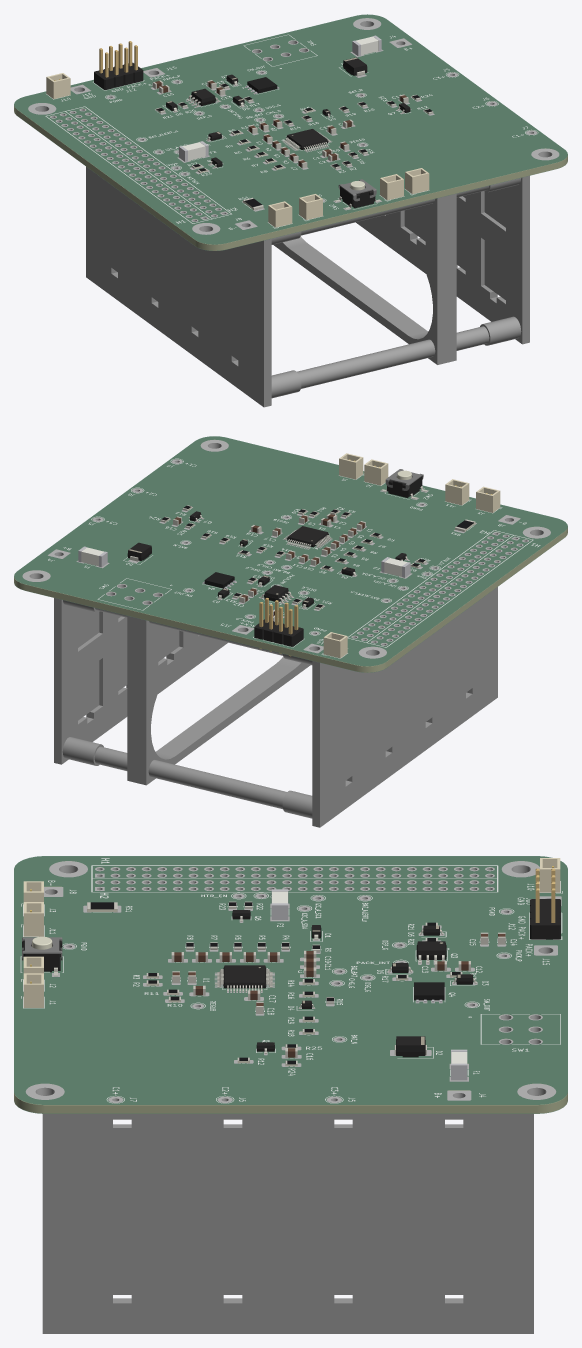
The model's file is board.glb.
3 views of the same model, one above another, from view 1: azimuth 30°, elevation 25°; view 2: azimuth 150°, elevation 25°; view 3: azimuth 270°, elevation 25° (orthographic). The views are drawn at different scales.
Visible parts, largest first — view 1: =>[0:1:1:38], =>[0:1:1:40], bottom plate battery harness v3:1 (×2), middle plate v6:1, =>[0:1:1:35], =>[0:1:1:36], =>[0:1:1:15] (×5), =>[0:1:1:21], =>[0:1:1:23], =>[0:1:1:25]; view 2: =>[0:1:1:38], =>[0:1:1:40], bottom plate battery harness v3:1 (×2), middle plate v6:1, =>[0:1:1:35], =>[0:1:1:36], =>[0:1:1:15] (×5), =>[0:1:1:21], =>[0:1:1:23], =>[0:1:1:25]; view 3: =>[0:1:1:38], =>[0:1:1:40], bottom plate battery harness v3:1, =>[0:1:1:35], =>[0:1:1:36], =>[0:1:1:15] (×3), =>[0:1:1:21], =>[0:1:1:25], =>[0:1:1:23], =>[0:1:1:19], =>[0:1:1:9], =>[0:1:1:34].
Boxes of the visible parts, box(x1,y1,x2,y2) form: =>[0:1:1:38]: box(14, 14, 567, 244); =>[0:1:1:40]: box(14, 15, 567, 250); bottom plate battery harness v3:1 (×2): box(86, 166, 529, 407); middle plate v6:1: box(273, 186, 489, 388); =>[0:1:1:35]: box(28, 18, 559, 234); =>[0:1:1:36]: box(45, 34, 538, 229); =>[0:1:1:15] (×5): box(46, 73, 429, 227); =>[0:1:1:21]: box(94, 41, 143, 89); =>[0:1:1:23]: box(335, 179, 380, 209); =>[0:1:1:25]: box(284, 129, 330, 151); =>[0:1:1:38]: box(14, 436, 567, 666); =>[0:1:1:40]: box(14, 437, 567, 672); bottom plate battery harness v3:1 (×2): box(54, 587, 497, 827); middle plate v6:1: box(94, 608, 310, 809); =>[0:1:1:35]: box(22, 440, 550, 658); =>[0:1:1:36]: box(48, 458, 540, 658); =>[0:1:1:15] (×5): box(323, 453, 500, 658); =>[0:1:1:21]: box(254, 598, 303, 656); =>[0:1:1:23]: box(381, 469, 427, 499); =>[0:1:1:25]: box(284, 526, 331, 548); =>[0:1:1:38]: box(14, 856, 567, 1104); =>[0:1:1:40]: box(14, 857, 567, 1113); bottom plate battery harness v3:1: box(42, 1114, 533, 1333); =>[0:1:1:35]: box(25, 861, 561, 1102); =>[0:1:1:36]: box(20, 858, 562, 1103); =>[0:1:1:15] (×3): box(23, 858, 560, 1007); =>[0:1:1:21]: box(530, 868, 560, 939); =>[0:1:1:25]: box(217, 965, 272, 991); =>[0:1:1:23]: box(22, 936, 62, 976); =>[0:1:1:19]: box(394, 1036, 426, 1057); =>[0:1:1:9]: box(414, 982, 444, 1002); =>[0:1:1:34]: box(416, 941, 446, 963).
Bounding box in the file's own units: 0.0959 × 0.054 × 0.0902.
